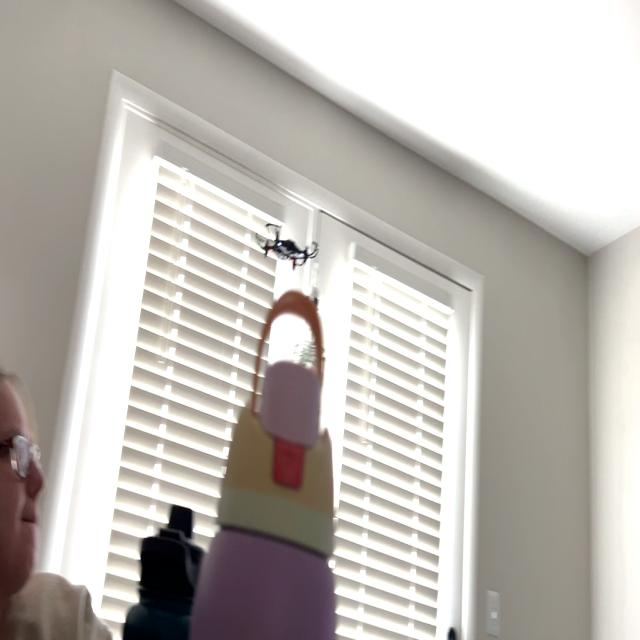drone: (246, 205, 324, 285)
